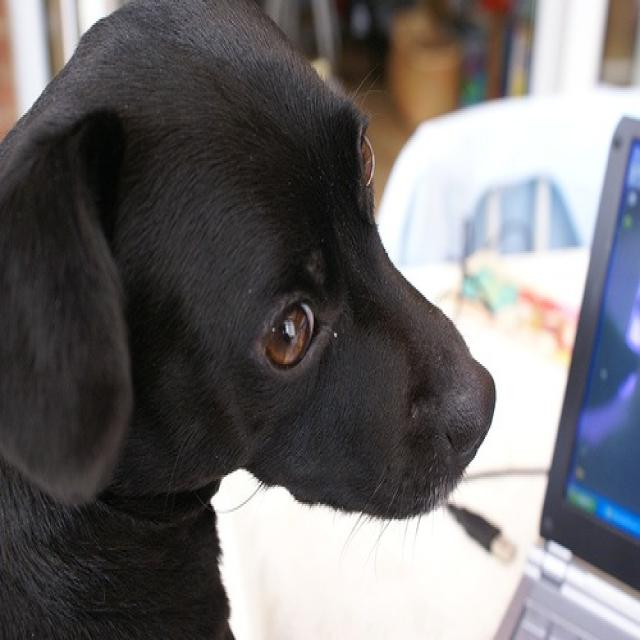dog: (0, 6, 503, 638)
